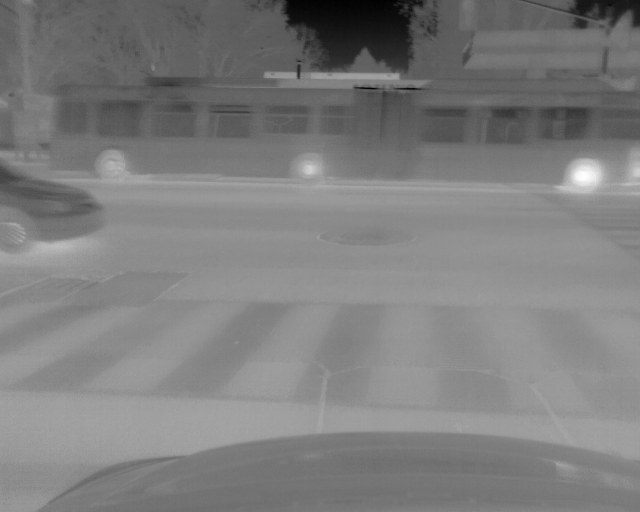car: (46, 74, 640, 190), (1, 157, 105, 256)
